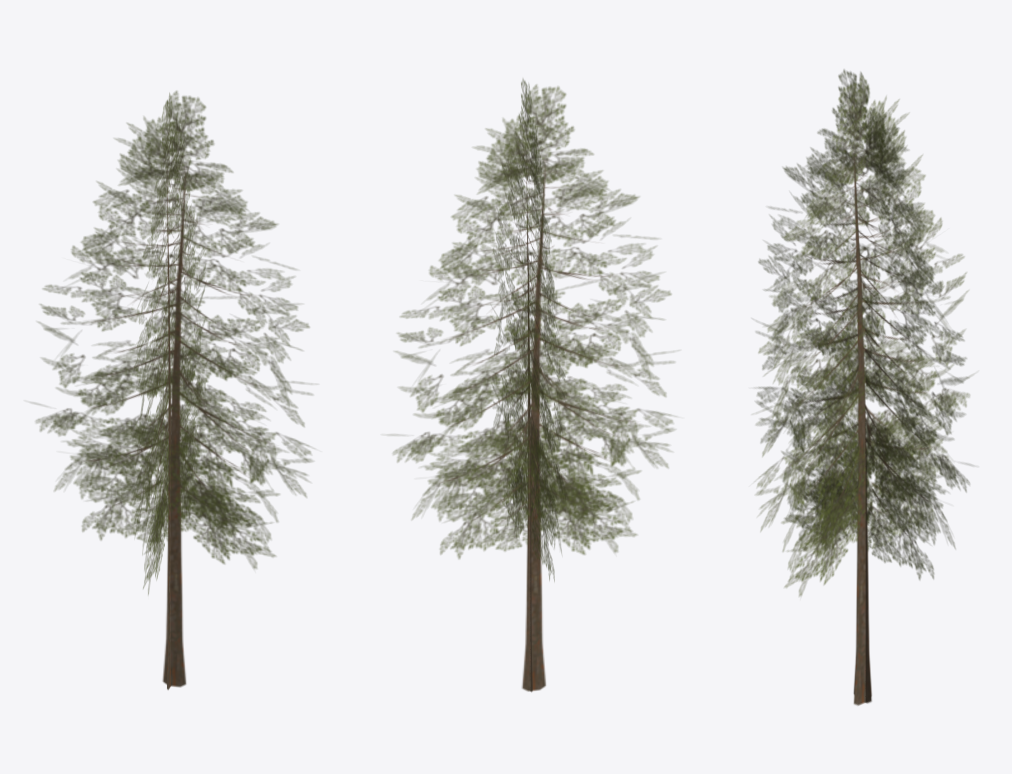
Rendered from tree_LOD2.glb.
3 renders of one model, left to right at view 1: azimuth 30°, elevation 25°; view 2: azimuth 150°, elevation 25°; view 3: azimuth 270°, elevation 25°, orthographic. The views are drawn at different scales.
Visible parts, largest first — view 1: lod last; view 2: lod last; view 3: lod last.
Boxes of the visible parts, bbox=[...] form: lod last: bbox=[31, 91, 312, 689]; lod last: bbox=[390, 79, 674, 692]; lod last: bbox=[756, 69, 973, 705].
Size of the model in its own units: 3.95 by 10.43 by 3.95.
Materials: 1 (1 with a texture image).
